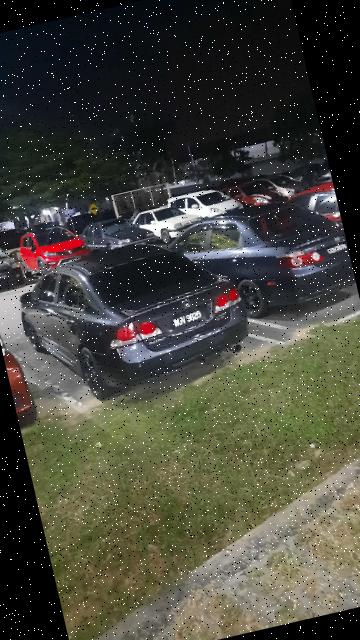License_Plate: (154, 300, 220, 337), (313, 236, 351, 263)
car: (7, 224, 255, 410), (166, 189, 360, 338)
